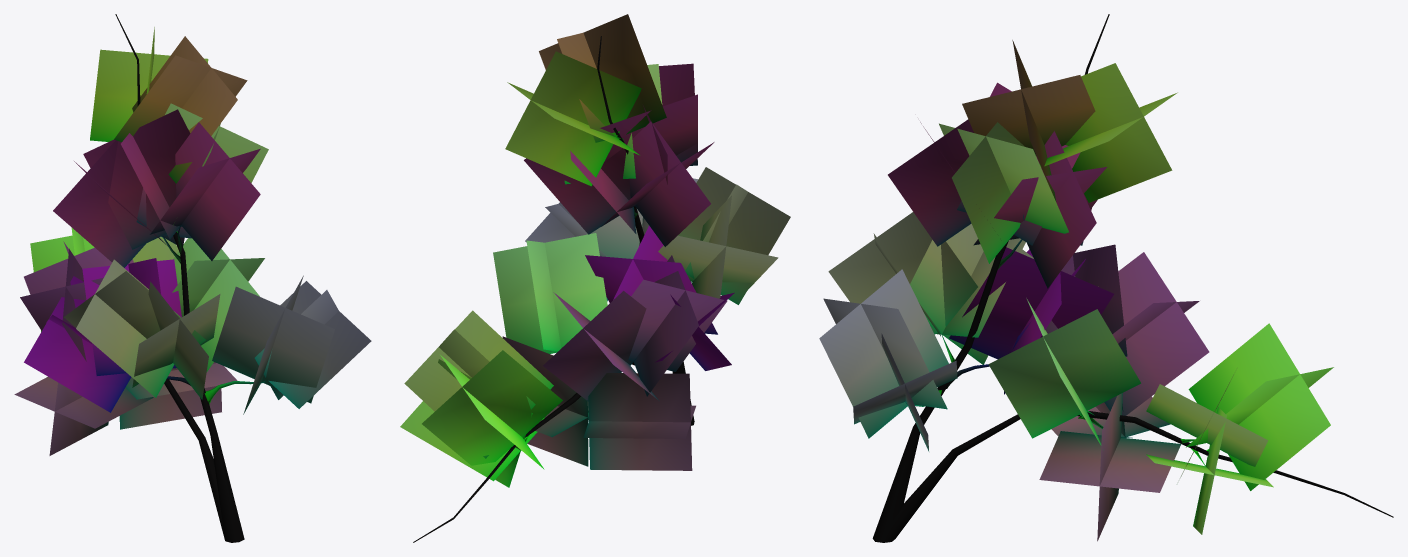
The model's file is URP_P12_Tree_16_LOD_3.fbx.
3 renders of one model, left to right at view 1: azimuth 30°, elevation 25°; view 2: azimuth 150°, elevation 25°; view 3: azimuth 270°, elevation 25°, orthographic. The views are drawn at different scales.
Parts seen in each view (by area): view 1: Tree_16_LOD_3; view 2: Tree_16_LOD_3; view 3: Tree_16_LOD_3.
Part boxes in pixels (x1,y1,x2,y2): Tree_16_LOD_3: (14, 14, 371, 542); Tree_16_LOD_3: (400, 14, 790, 542); Tree_16_LOD_3: (819, 14, 1393, 542).
Size of the model in its own units: 190 by 313 by 316.
